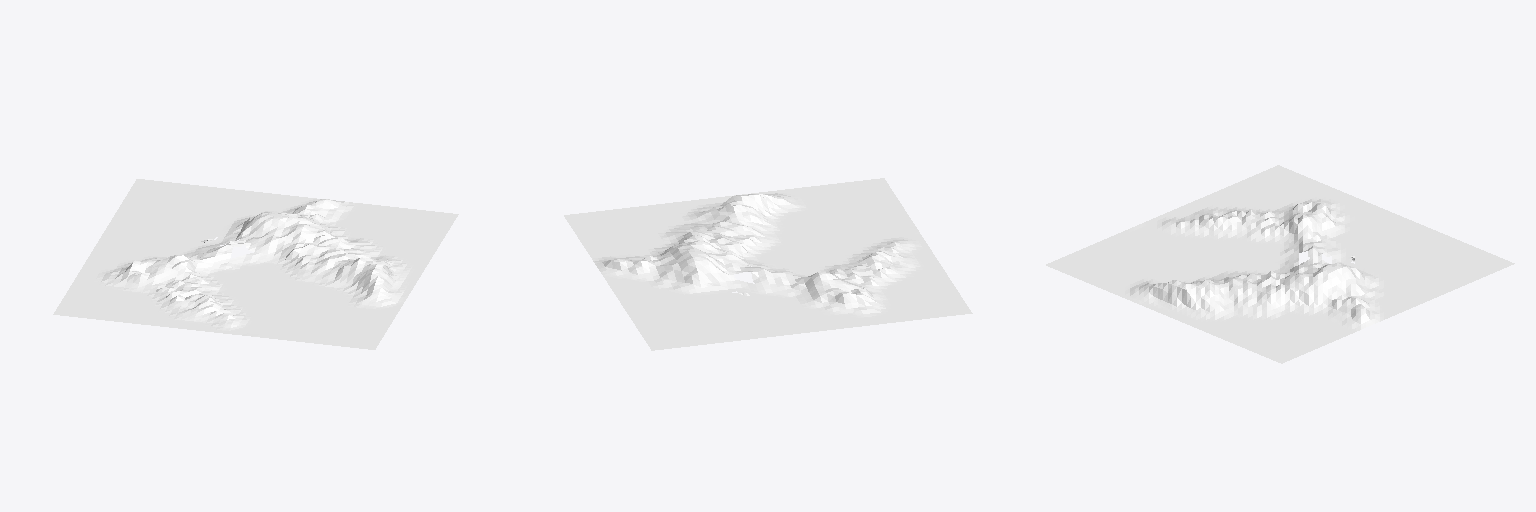
File: mountains.obj
3 views of the same model, side by side, from view 1: azimuth 30°, elevation 25°; view 2: azimuth 150°, elevation 25°; view 3: azimuth 270°, elevation 25° (orthographic).
Visible parts, largest first — view 1: Mesh; view 2: Mesh; view 3: Mesh.
Boxes of the visible parts, <box> form: Mesh: <box>53,179,458,349</box>; Mesh: <box>564,178,972,350</box>; Mesh: <box>1046,165,1514,363</box>.
Size of the model in its own units: 33.94 by 1.6 by 33.94.